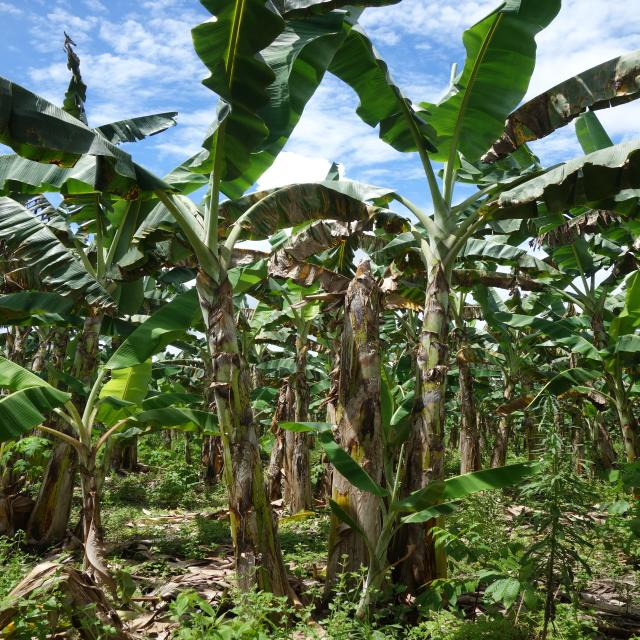Banana-plant: (181, 175, 295, 616), (8, 262, 144, 556), (400, 205, 484, 601)
